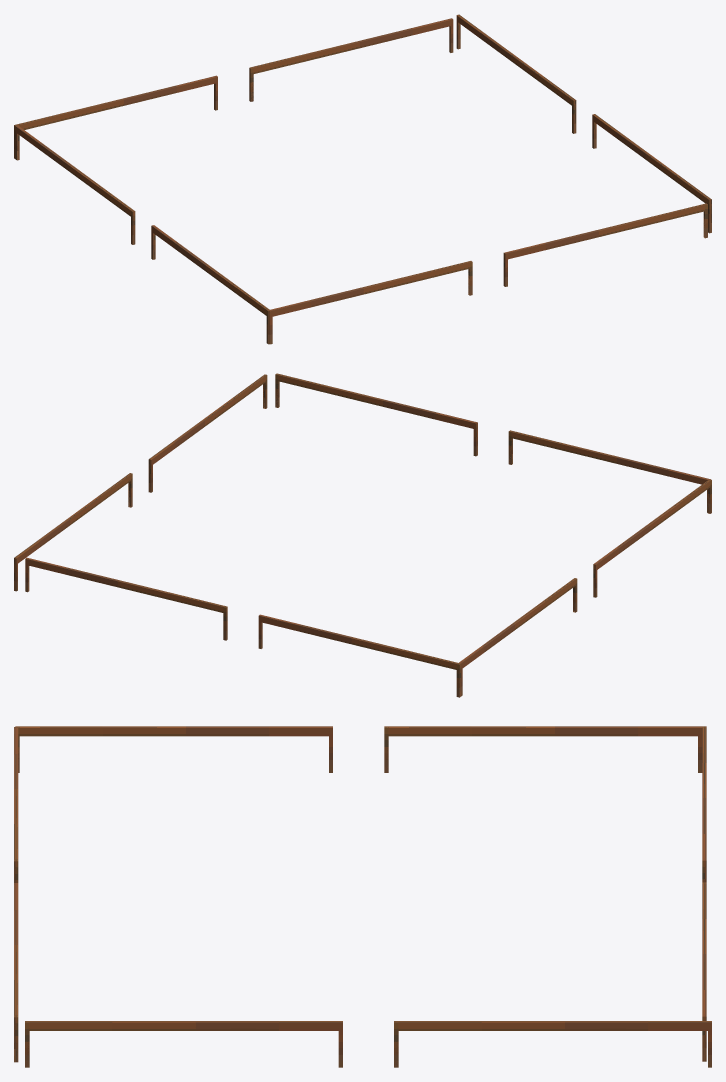
File: guardrail_002.fbx
3 renders of one model, top to bottom at view 1: azimuth 30°, elevation 25°; view 2: azimuth 150°, elevation 25°; view 3: azimuth 270°, elevation 25°, orthographic. The views are drawn at different scales.
Visible parts, largest first — view 1: guardrail.002; view 2: guardrail.002; view 3: guardrail.002.
Boxes of the visible parts, bbox=[...] form: guardrail.002: bbox=[14, 14, 711, 344]; guardrail.002: bbox=[14, 373, 711, 697]; guardrail.002: bbox=[14, 726, 711, 1067].
Size of the model in its own units: 2819 by 200 by 2804.
1 material, 1 textured.
